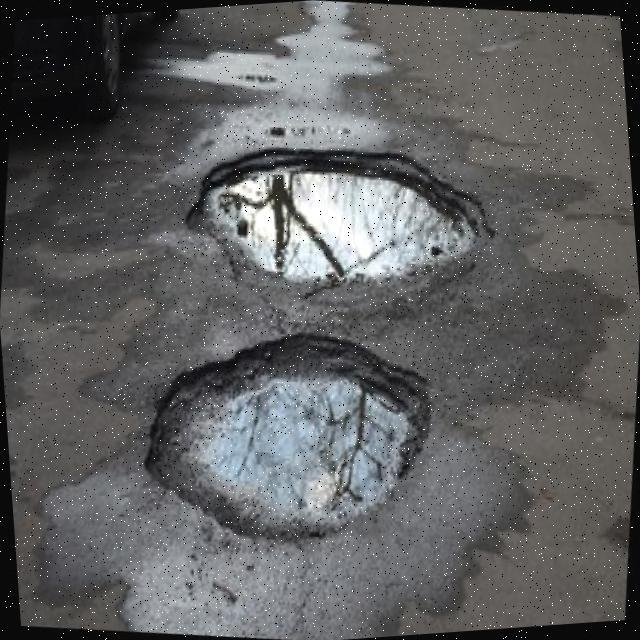Pothole: (144, 334, 431, 522), (185, 148, 495, 286)
